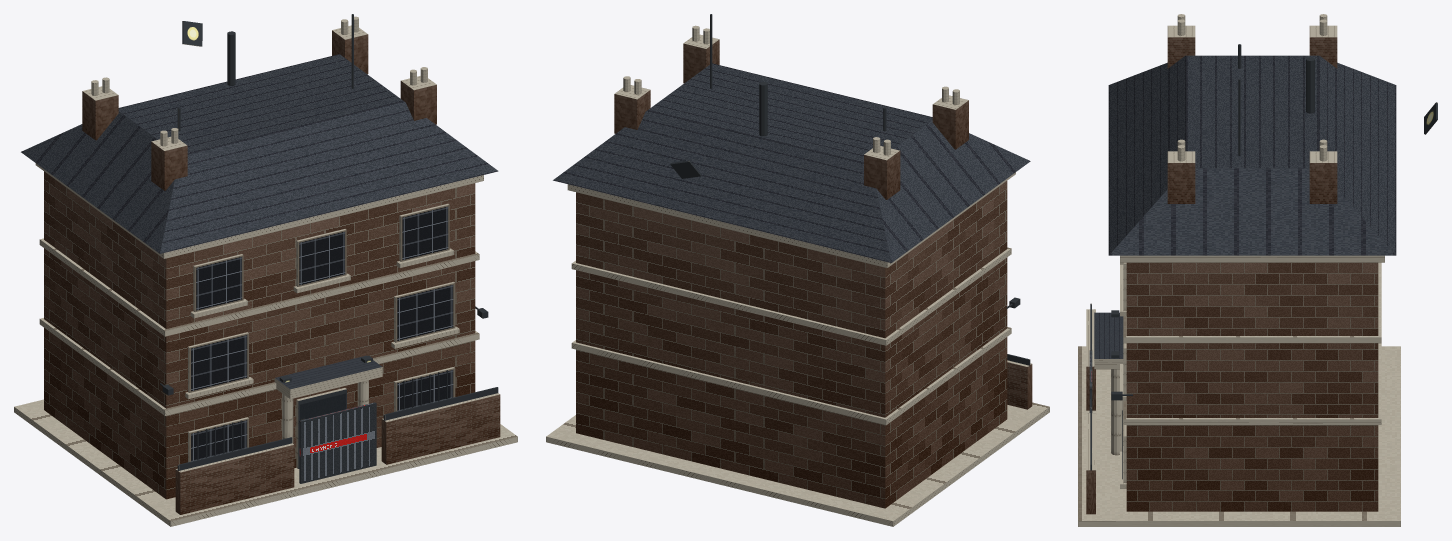
The model's file is building_croydon_traphouse_hq.glb.
3 views of the same model, side by side, from view 1: azimuth 30°, elevation 25°; view 2: azimuth 150°, elevation 25°; view 3: azimuth 270°, elevation 25° (orthographic). The views are drawn at different scales.
Parts seen in each view (by area): view 1: Building_Croydon_Traphouse_HQ; view 2: Building_Croydon_Traphouse_HQ; view 3: Building_Croydon_Traphouse_HQ.
Boxes of the visible parts, x1,y1,x2,y2 form: Building_Croydon_Traphouse_HQ: (14,14,517,526); Building_Croydon_Traphouse_HQ: (546,14,1049,526); Building_Croydon_Traphouse_HQ: (1078,14,1437,526).
Size of the model in its own units: 12.8 by 13.8 by 11.14.
1 material, 1 textured.
